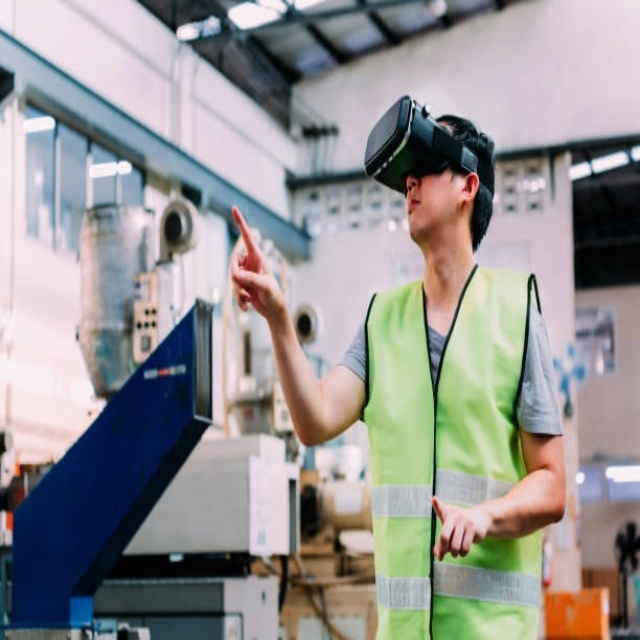Sin_guantes: (229, 203, 279, 321), (429, 491, 486, 562)
Sin_mascara: (404, 193, 432, 235)
